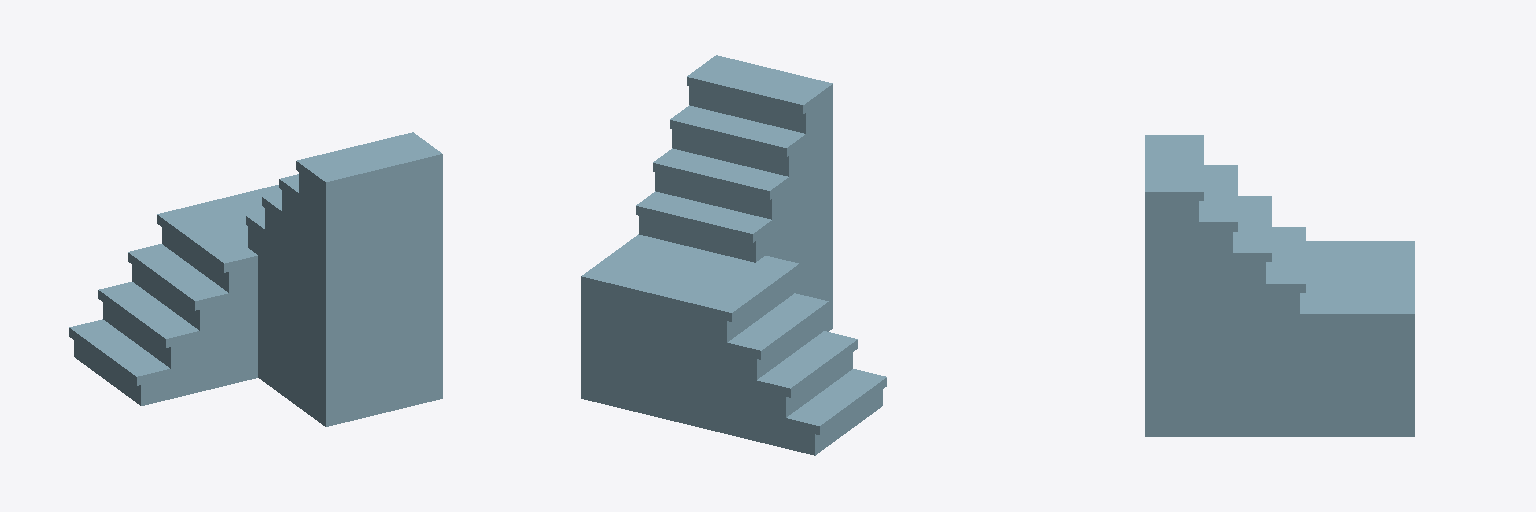
Rendered from stairsStoneCorner.obj.
3 renders of one model, left to right at view 1: azimuth 30°, elevation 25°; view 2: azimuth 150°, elevation 25°; view 3: azimuth 270°, elevation 25°, orthographic.
Parts seen in each view (by area): view 1: stairsStoneCorner; view 2: stairsStoneCorner; view 3: stairsStoneCorner.
Part boxes in pixels (bbox=[...]): stairsStoneCorner: bbox=[69, 132, 442, 426]; stairsStoneCorner: bbox=[581, 55, 886, 455]; stairsStoneCorner: bbox=[1145, 135, 1414, 436].
Size of the model in its own units: 1.02 by 1 by 1.